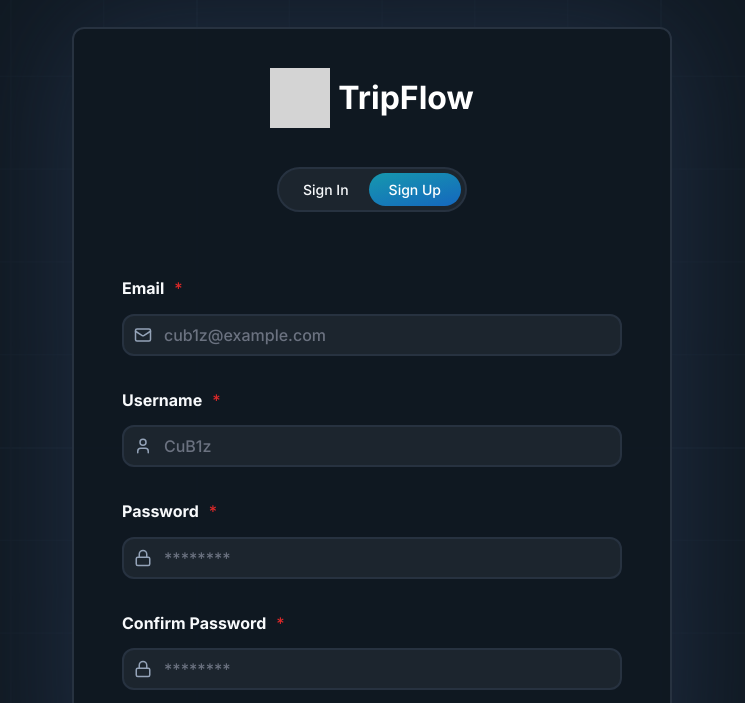
Scenario: Register Page Validation › shows server error
The image size is (745, 703).
In the field labelled "Username *": (372, 446) [122,425,622,467], type "testuser"
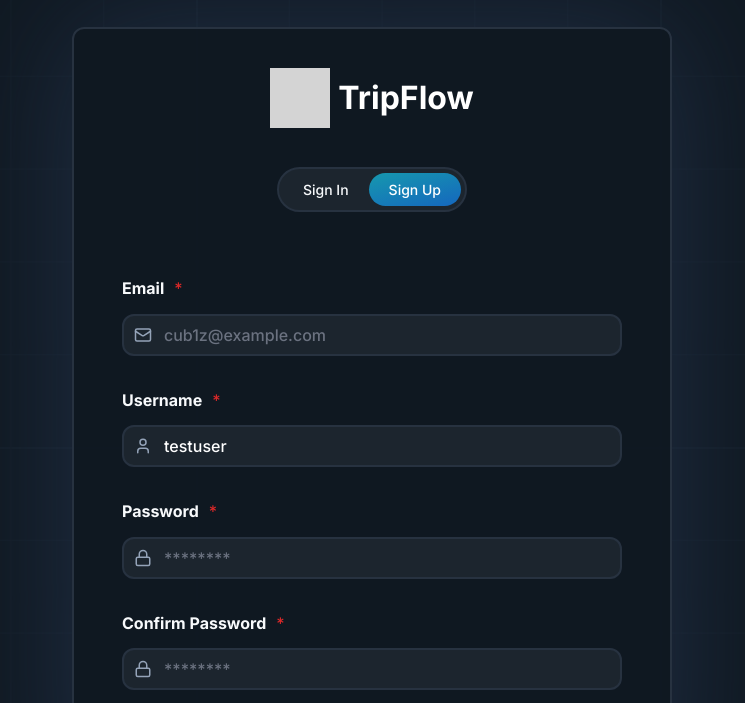
In the password field labelled "Password *": (372, 558) [122,537,622,579], type "Password123"
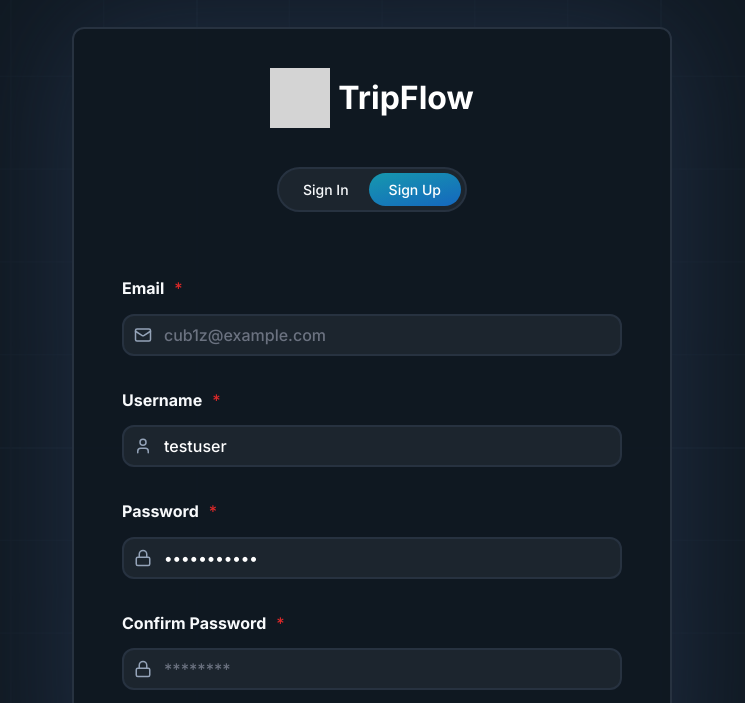
In the password field labelled "Confirm Password *": (372, 669) [122,648,622,690], type "Password123"
(page scrolled)
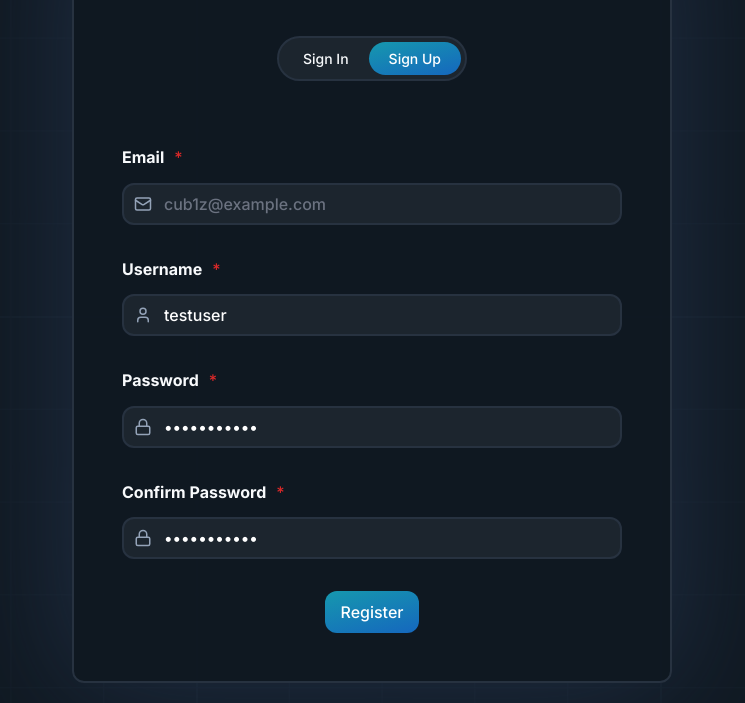
Click the button "Register": click(372, 612) [324,591,420,633]
(page scrolled)
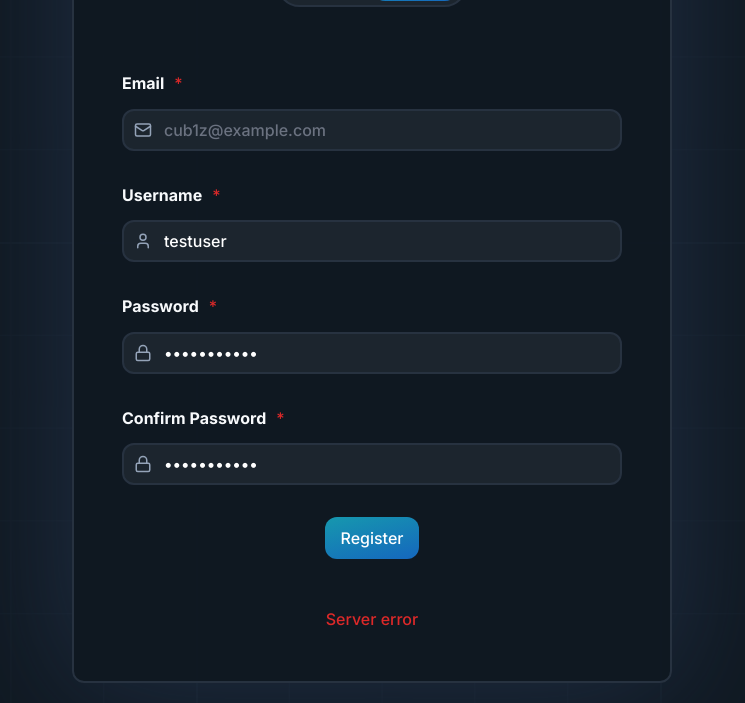
Check: the text "Server error" is shown, box [326,607,418,633]
